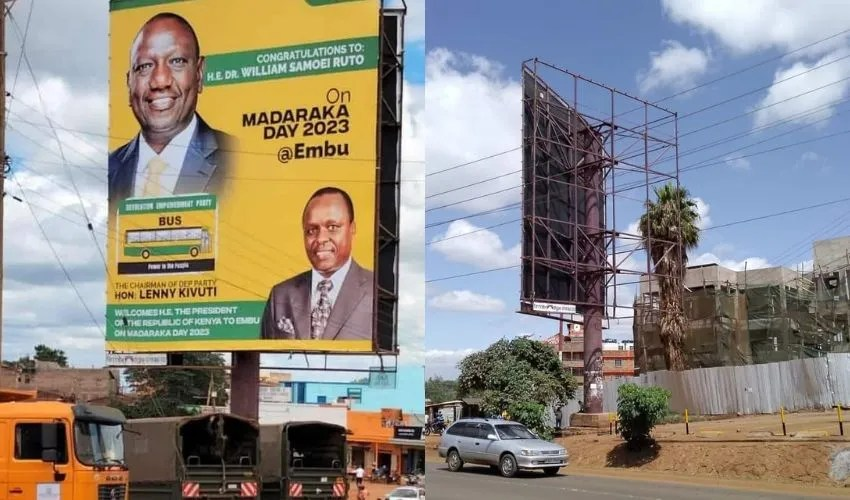poster: (103, 1, 400, 360)
